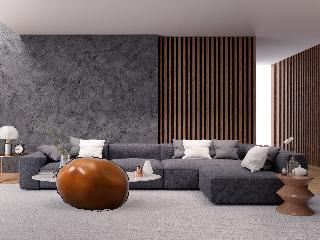potato: (56, 158, 129, 212)
